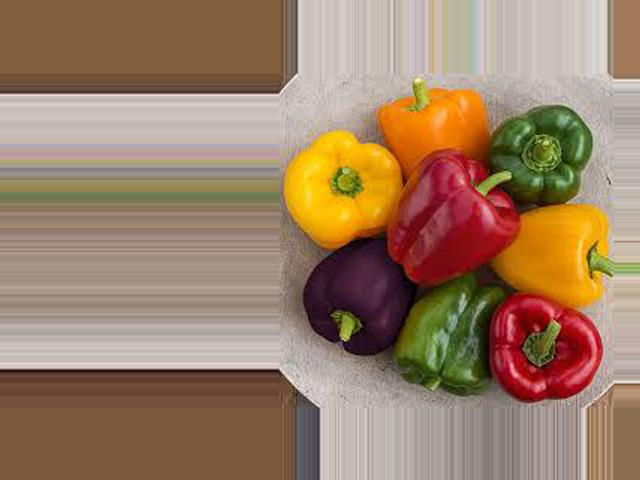bell_pepper: (306, 234, 434, 384)
